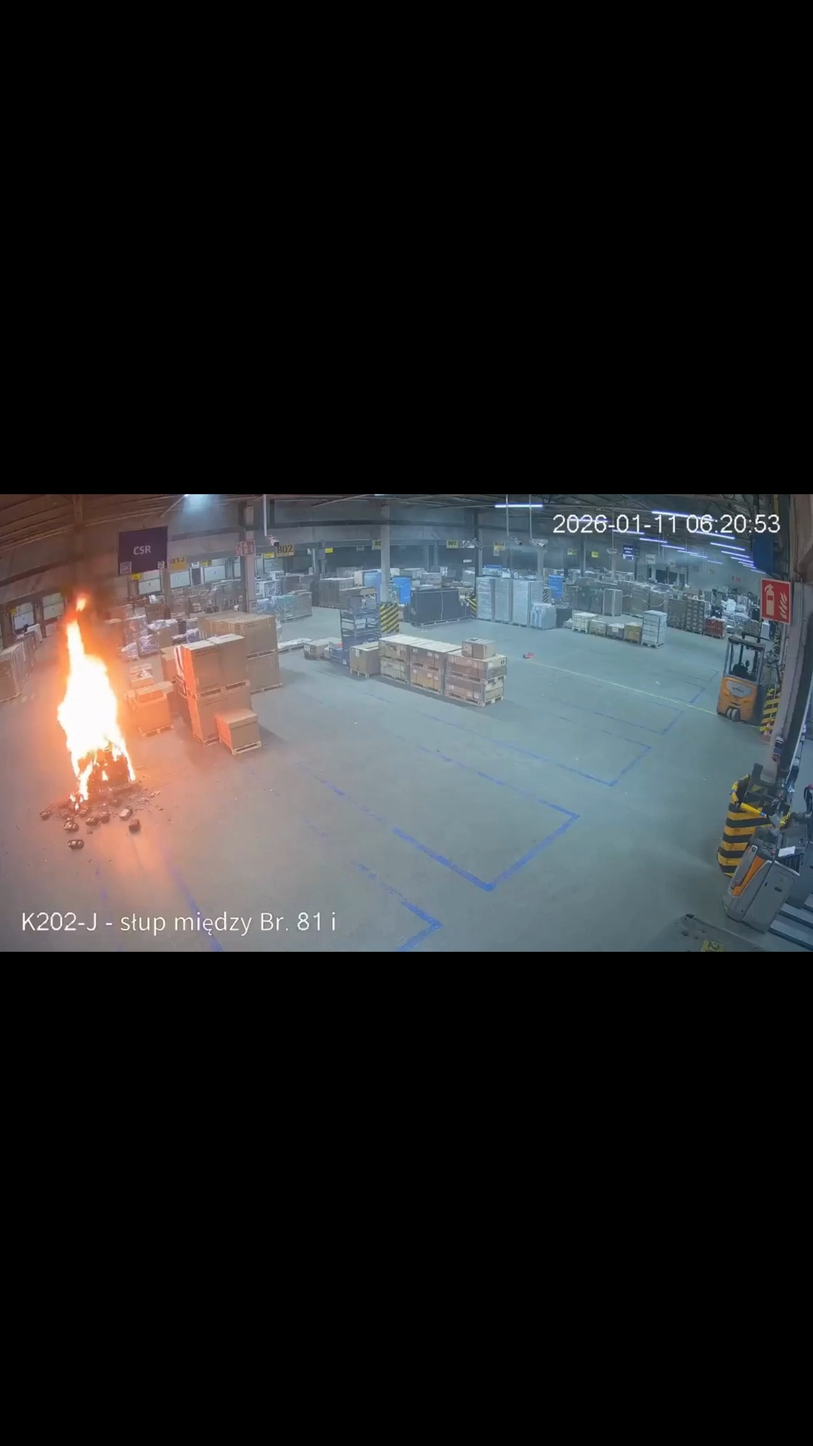fire: (57, 595, 137, 813)
smoke: (30, 496, 162, 667)
